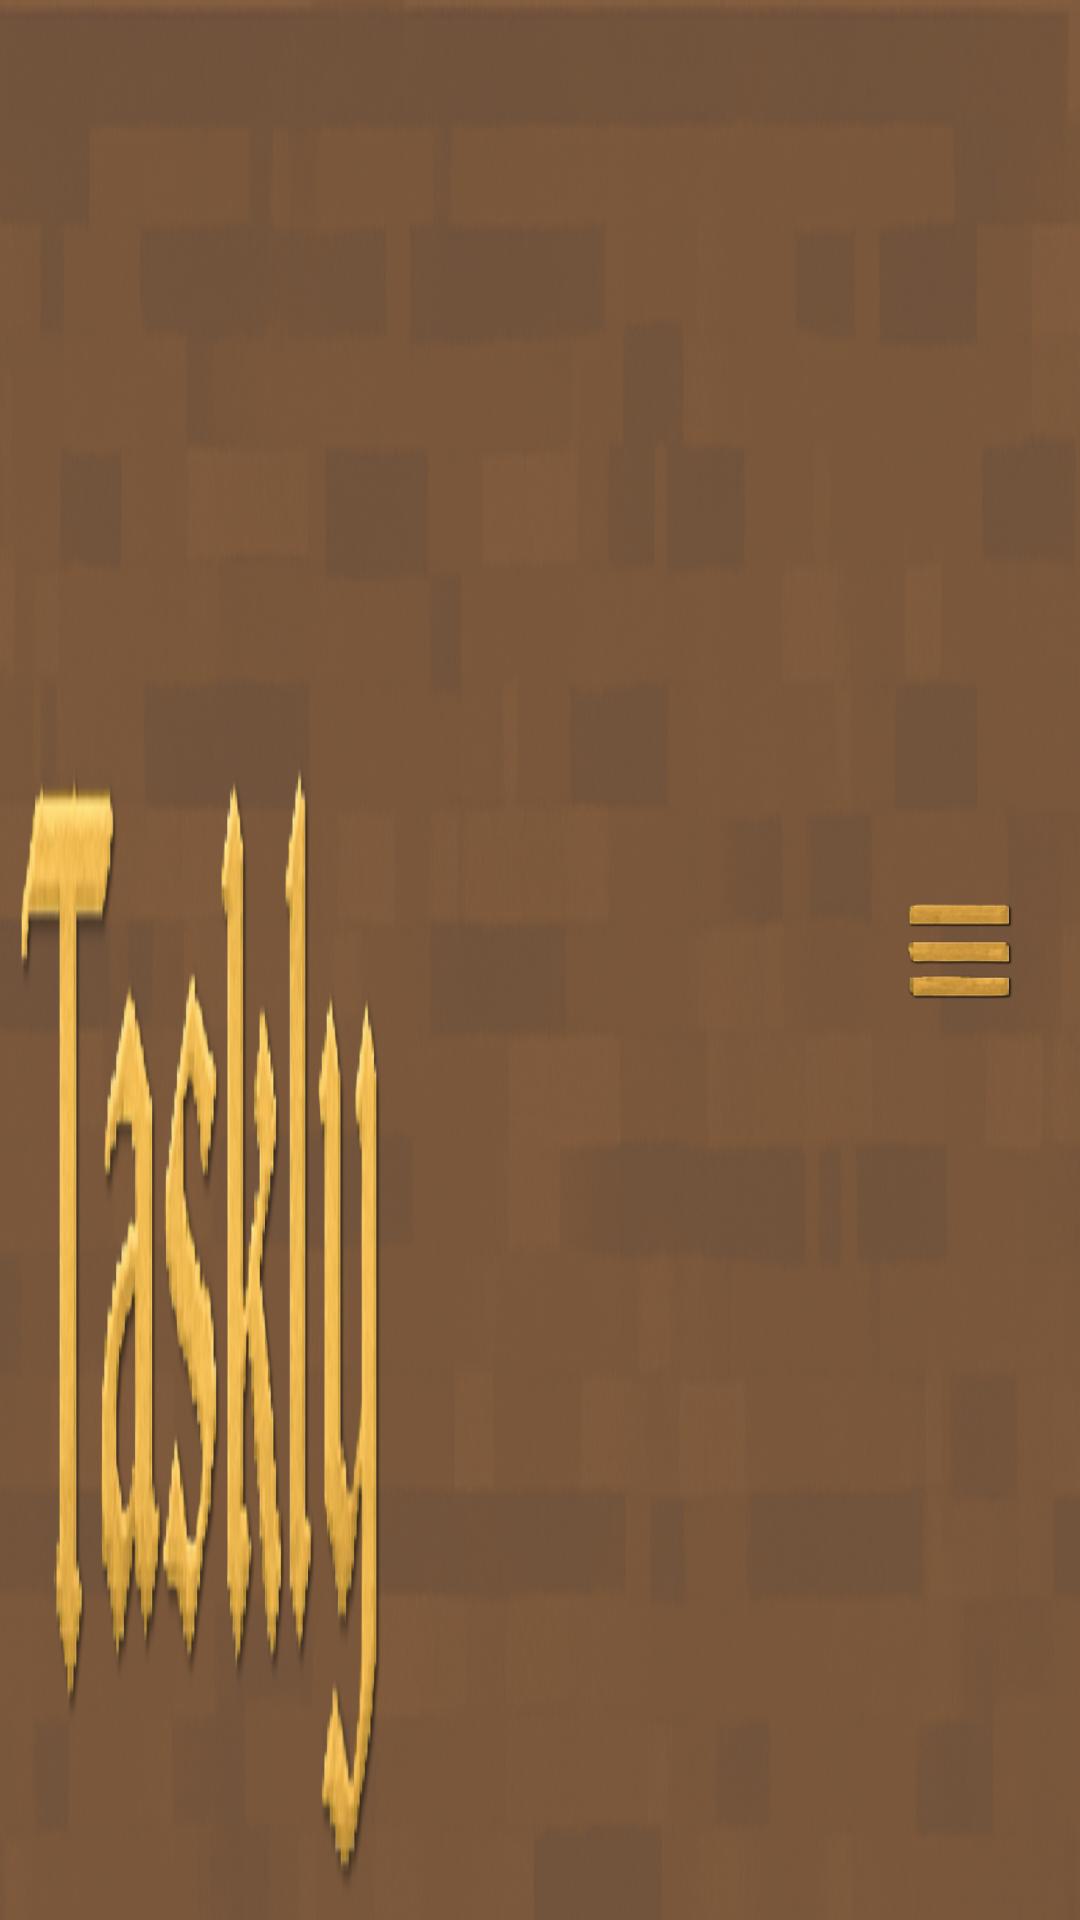

Icon bounding boxes for this 1080px×1920px phone screenshot, format (x1,y1,x2,y2):
menu: (908,904,1012,998)
